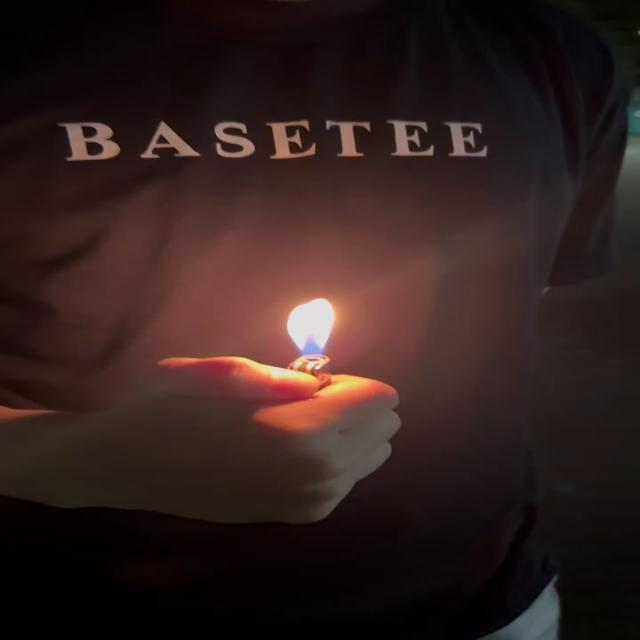Fire: (284, 298, 340, 363)
